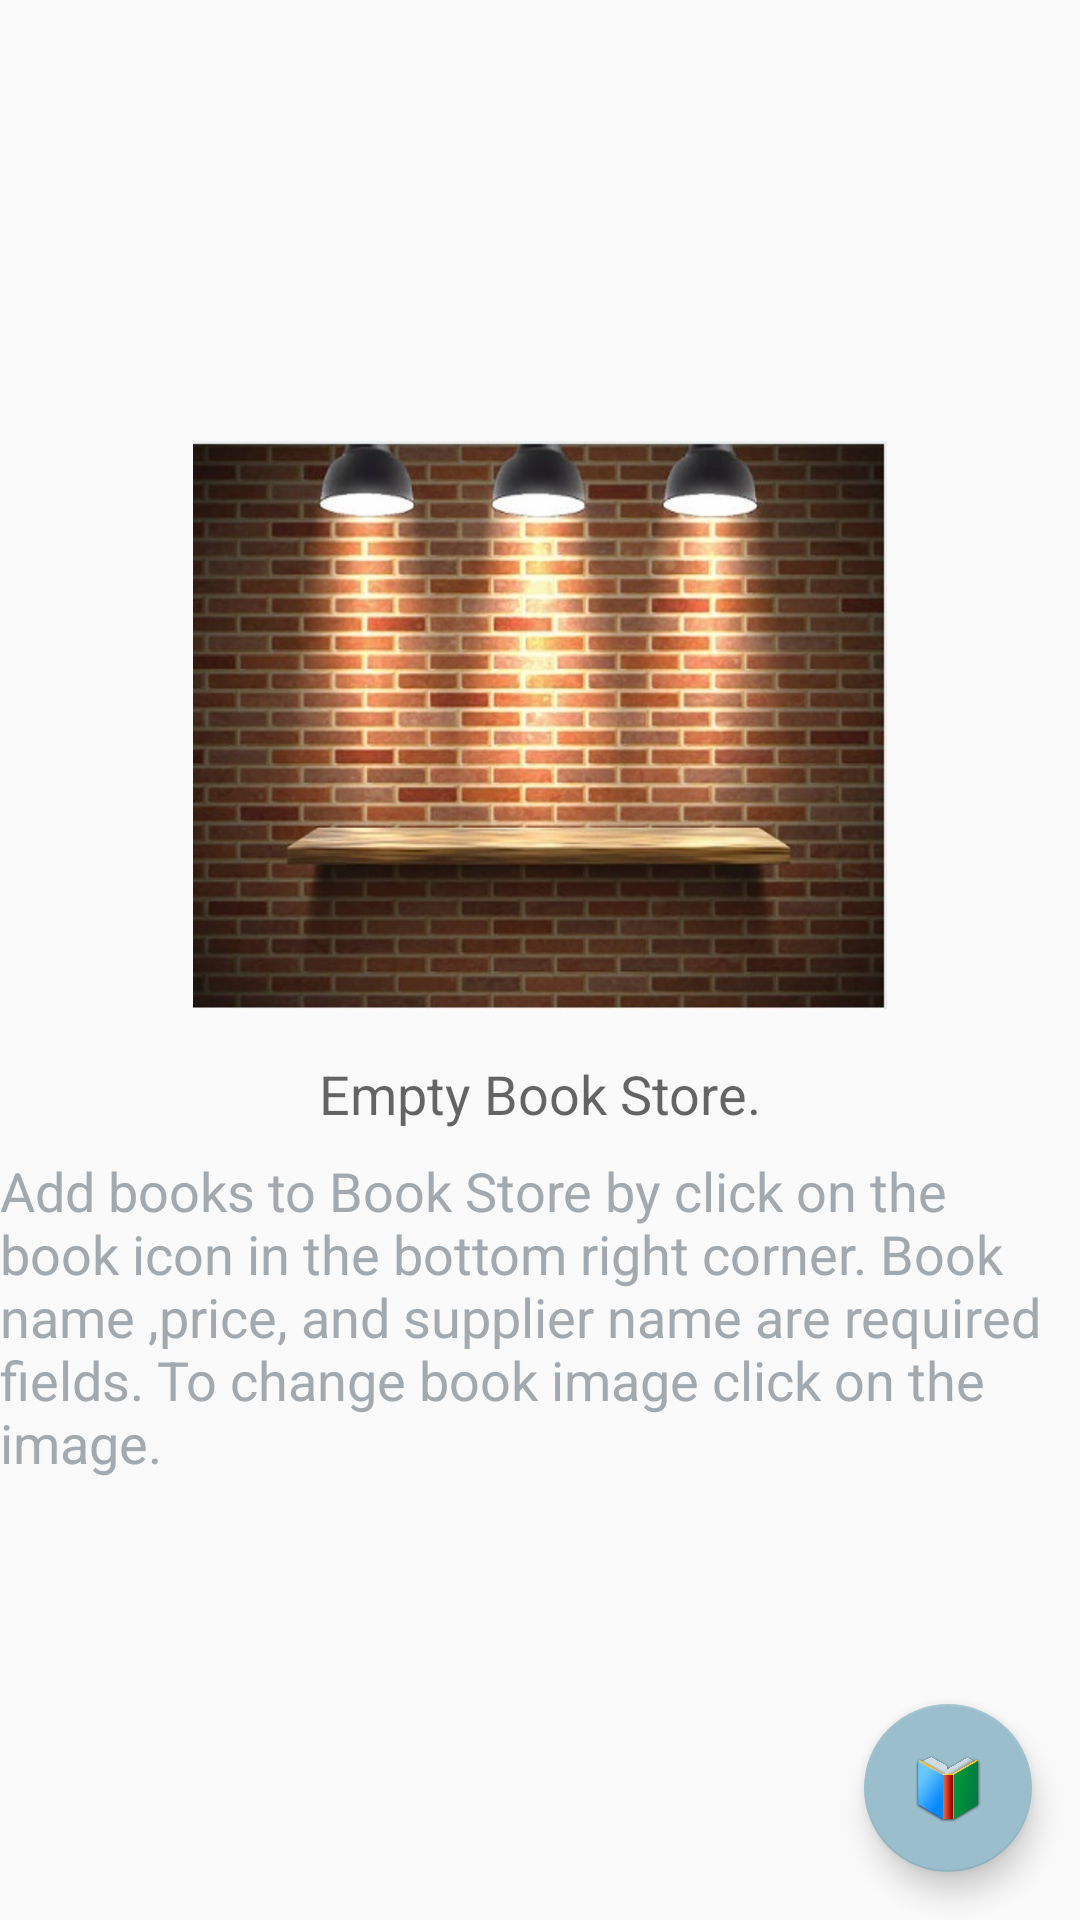

Icons on this 1080x1920 Android screen, each with its box as (x1, y1, x2, y2):
books: (864, 1704, 1032, 1872)
